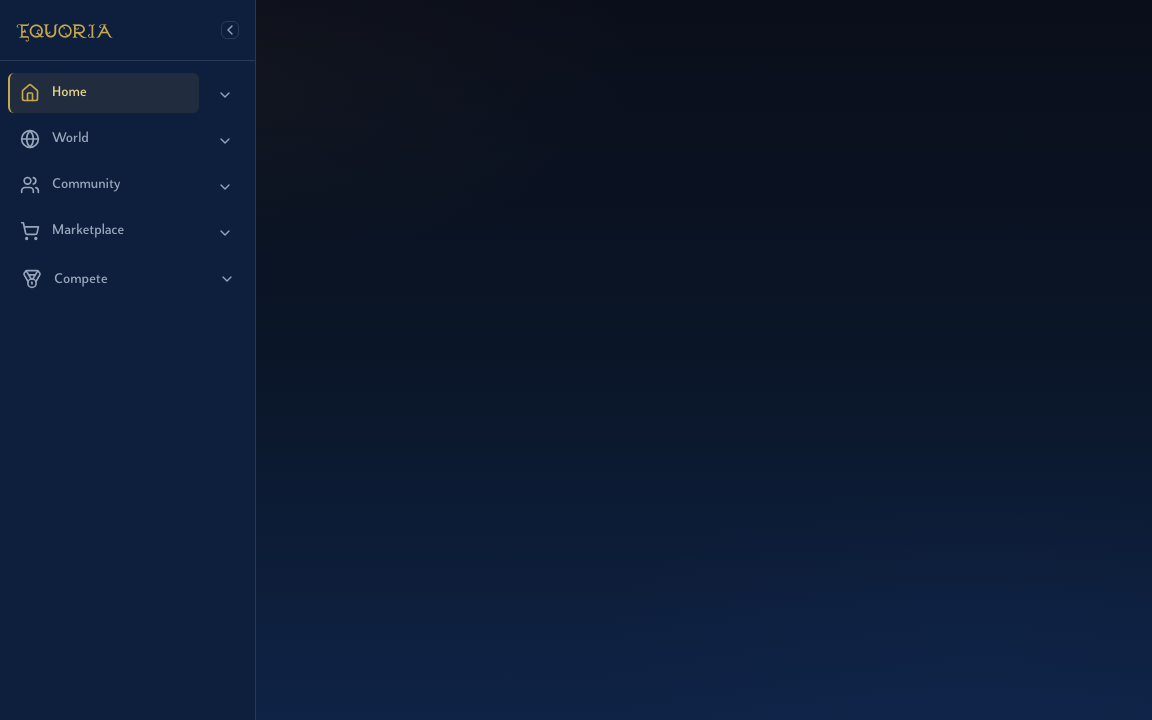
Test: SidebarNav — Home thread › lets down Stable, Staff, Inventory, Bank, Settings and Profile, in that order, and draws them up again
Step 1. Click the button with test id "home-thread-toggle" → (225, 95), box 203,73 -> 247,117
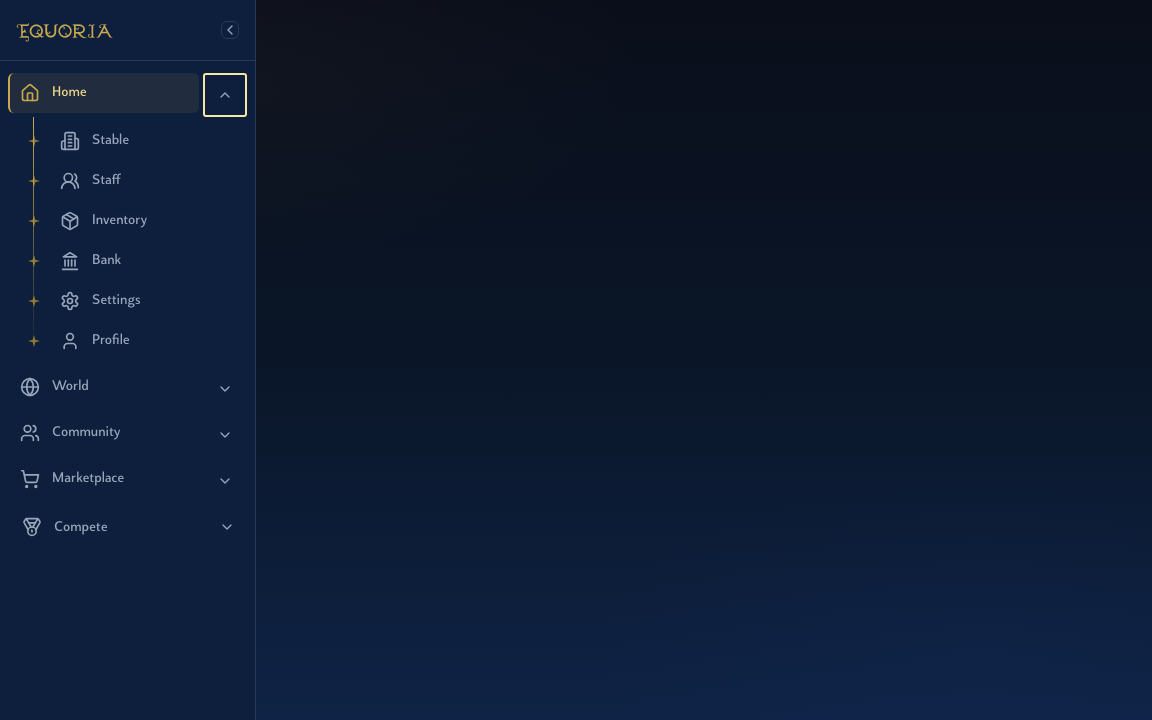
Check: the button with test id "home-thread-toggle" is expanded
Step 2. Click the button with test id "home-thread-toggle" → (225, 95), box 203,73 -> 247,117
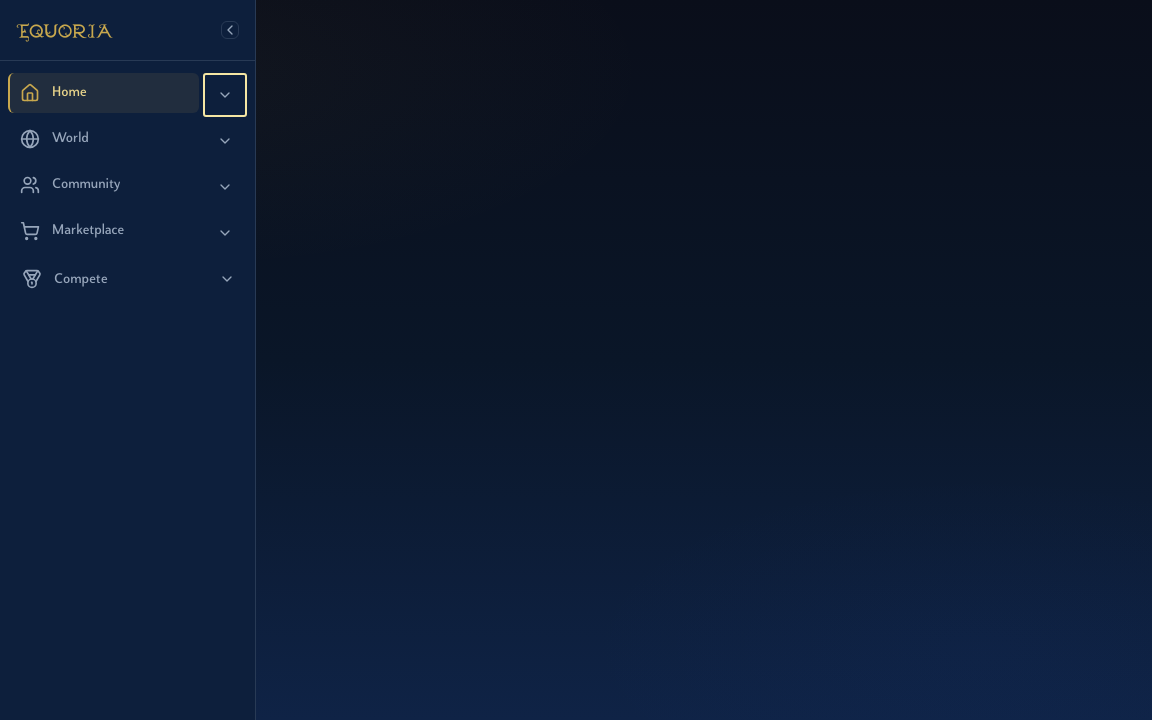
Check: the link "Staff" is gone
